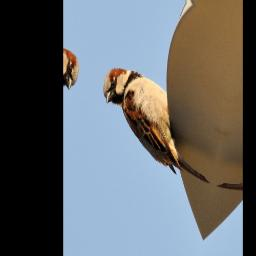Swallow: (93, 60, 225, 186)
